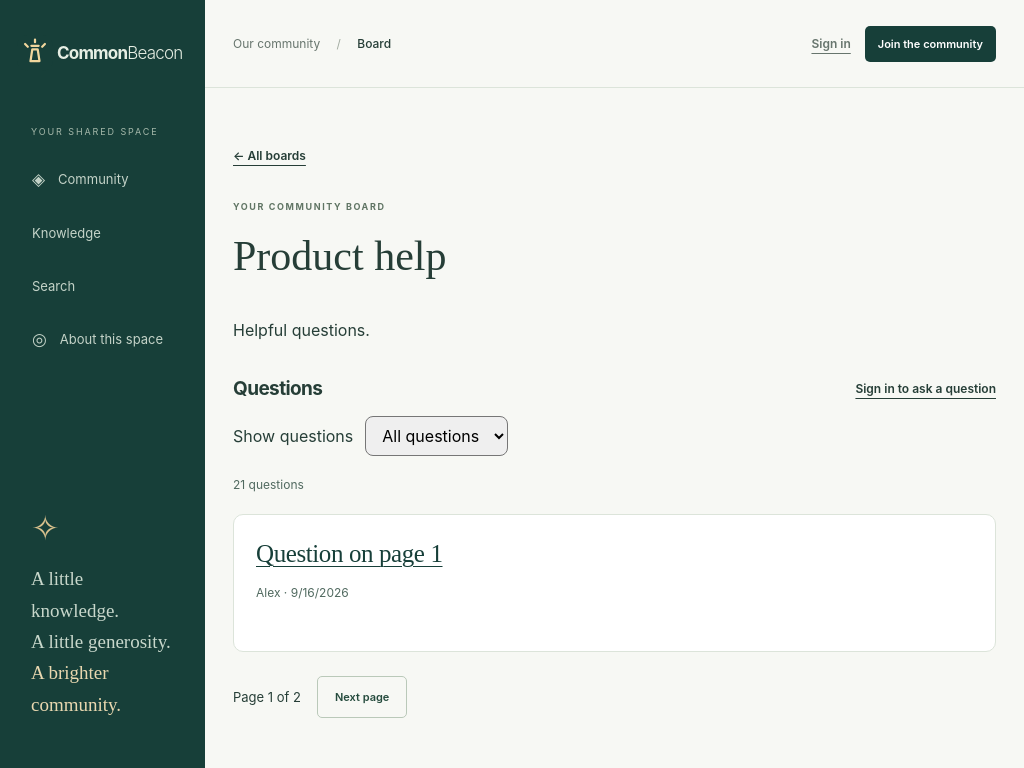
it: changes question pages through the URL and does not carry previous results
Expected: the link "Question on page 1" is shown, x1=256 y1=540 x2=442 y2=566
Click the link "Next page" at (362,697), box x1=317 y1=676 x2=407 y2=718
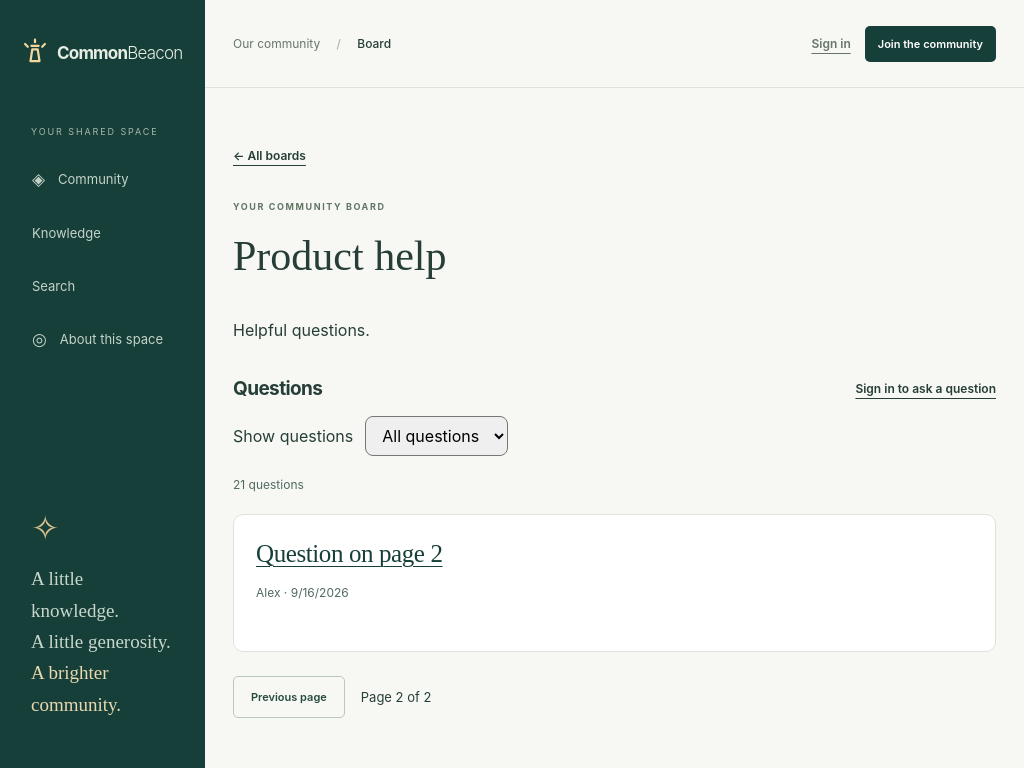
Result: the link "Question on page 2" is shown at x1=256 y1=540 x2=442 y2=566
Result: the link "Question on page 1" is gone
